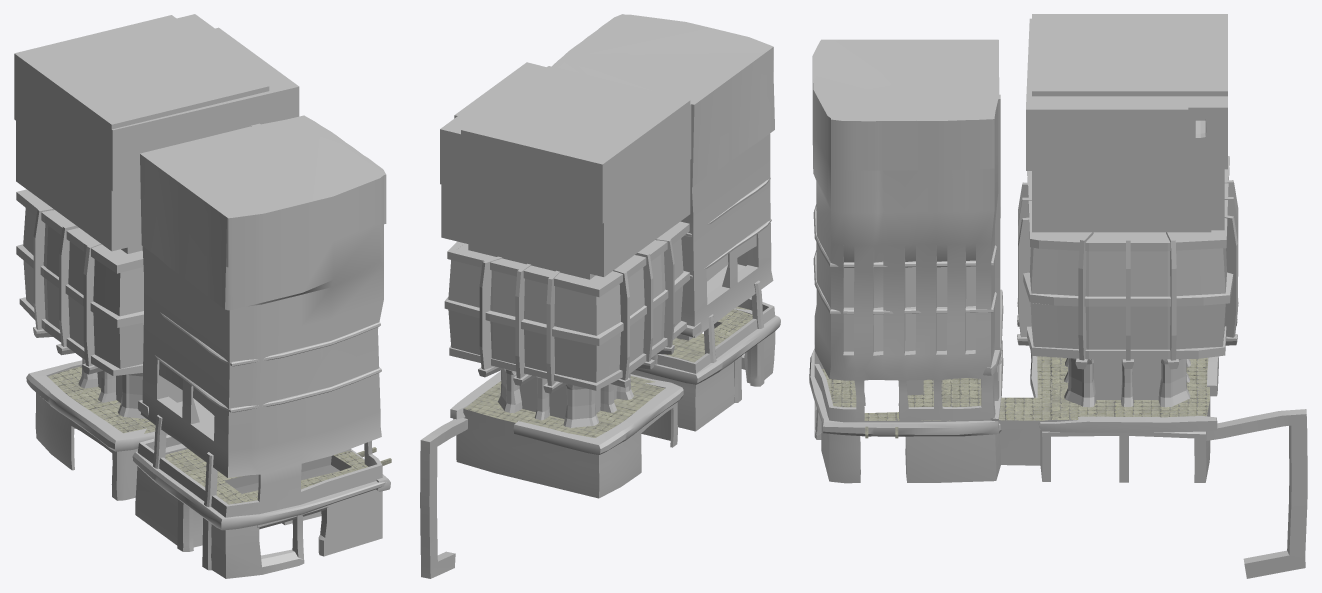
The model's file is SM_Corridor_08_01.fbx.
3 views of the same model, side by side, from view 1: azimuth 30°, elevation 25°; view 2: azimuth 150°, elevation 25°; view 3: azimuth 270°, elevation 25° (orthographic). The views are drawn at different scales.
Parts seen in each view (by area): view 1: SM_Corridor_08_01; view 2: SM_Corridor_08_01; view 3: SM_Corridor_08_01.
Part boxes in pixels (bbox=[...]): SM_Corridor_08_01: bbox=[14, 14, 391, 578]; SM_Corridor_08_01: bbox=[420, 14, 780, 578]; SM_Corridor_08_01: bbox=[809, 14, 1307, 578].
Bounding box in the file's own units: 1893 × 4287 × 4005.
